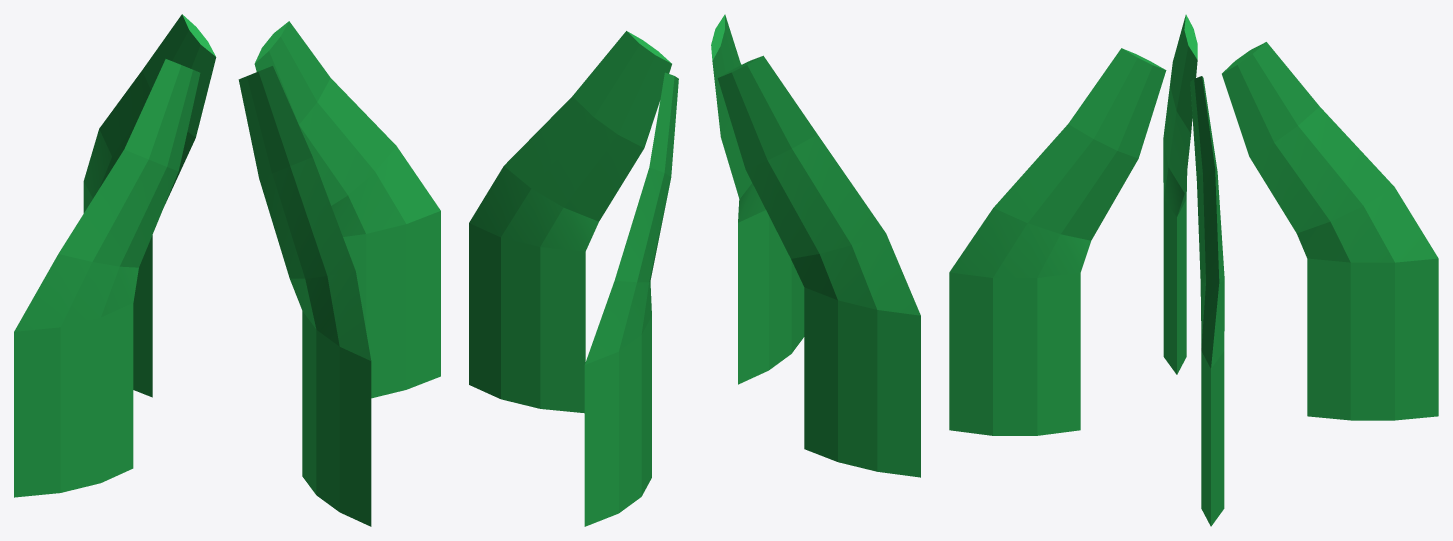
The model's file is Grass.obj.
The picture shows the model from 3 angles, left to right: view 1: azimuth 30°, elevation 25°; view 2: azimuth 150°, elevation 25°; view 3: azimuth 270°, elevation 25°; orthographic projection. The views are drawn at different scales.
Parts seen in each view (by area): view 1: Cylinder.002_Cylinder.004; view 2: Cylinder.002_Cylinder.004; view 3: Cylinder.002_Cylinder.004.
Boxes of the visible parts, x1,y1,x2,y2 form: Cylinder.002_Cylinder.004: (14,14,440,526); Cylinder.002_Cylinder.004: (469,14,920,526); Cylinder.002_Cylinder.004: (949,14,1438,526).
Bounding box in the file's own units: 1.04 × 0.8863 × 1.04.
1 material, 1 textured.
